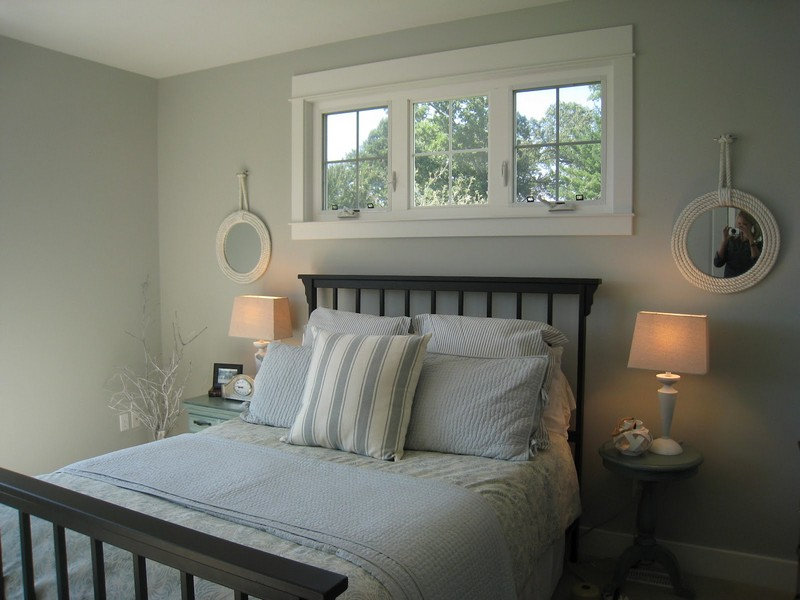bed: (24, 272, 591, 593)
lamp: (628, 307, 708, 463), (229, 292, 295, 380)
stool: (602, 432, 705, 590), (183, 391, 250, 441)
